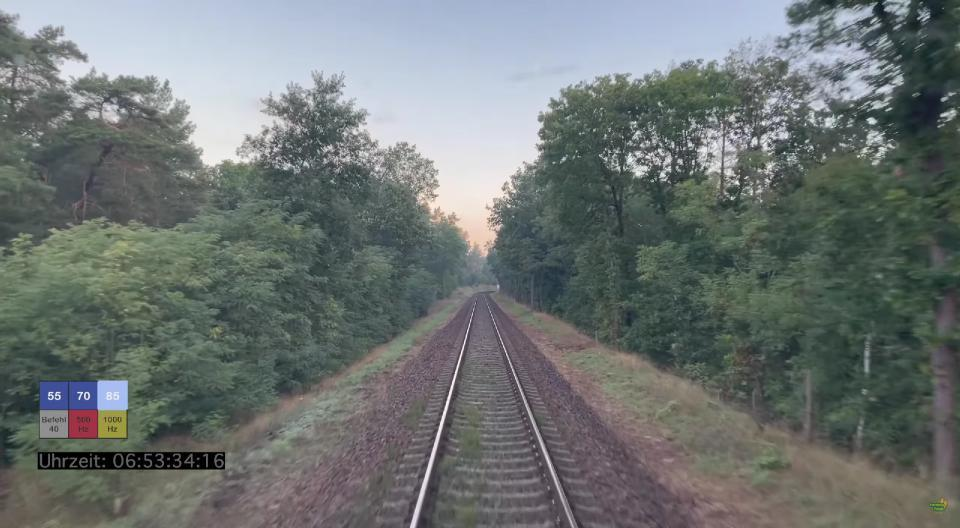Plant: (439, 402, 485, 494), (434, 493, 486, 528), (404, 399, 428, 430), (367, 473, 394, 495), (387, 444, 406, 461)
